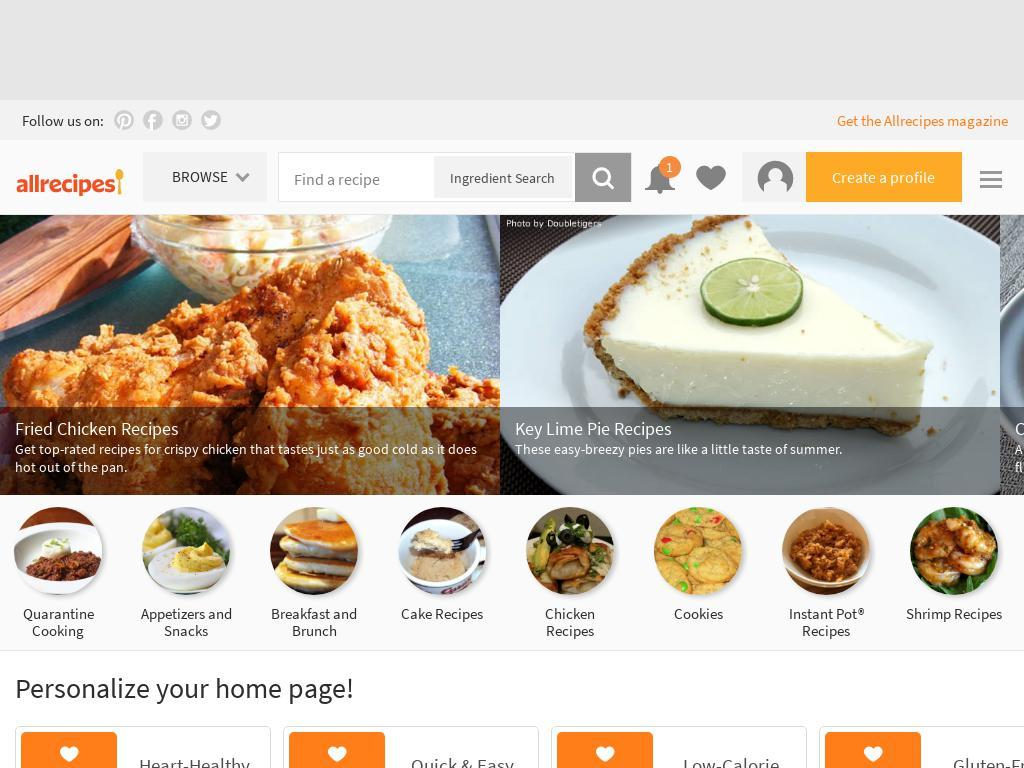button: (8, 507, 108, 643), (136, 507, 236, 643), (264, 507, 364, 643), (520, 507, 620, 643), (776, 507, 876, 643), (392, 507, 492, 626), (648, 507, 748, 626), (904, 507, 1004, 626), (0, 142, 140, 222), (745, 152, 962, 202), (1000, 215, 1024, 495), (143, 152, 267, 202), (837, 110, 1008, 130), (574, 153, 631, 202), (113, 110, 164, 160), (172, 110, 223, 160), (201, 110, 252, 160), (143, 110, 193, 160), (636, 142, 683, 192), (964, 142, 1010, 163), (687, 172, 734, 192)
field: (278, 153, 520, 199)
heading: (15, 670, 354, 706), (15, 417, 485, 440), (515, 417, 985, 440), (139, 754, 250, 768), (411, 754, 514, 768), (682, 754, 779, 768), (952, 754, 1024, 768), (1015, 417, 1024, 440)
image: (0, 215, 500, 495), (500, 215, 1000, 495), (14, 507, 102, 595), (142, 507, 230, 595), (270, 507, 358, 595), (398, 507, 486, 595), (526, 507, 614, 595), (654, 507, 742, 595), (782, 507, 870, 595), (910, 507, 998, 595), (1000, 215, 1024, 495), (25, 732, 112, 768), (293, 732, 380, 768), (561, 732, 648, 768), (829, 732, 916, 768), (15, 168, 125, 196), (175, 112, 222, 159), (585, 160, 632, 207), (640, 159, 687, 206), (689, 156, 736, 203), (751, 154, 796, 200), (115, 111, 145, 146), (202, 112, 232, 138), (146, 112, 166, 147), (979, 171, 1002, 174), (979, 178, 1002, 181), (979, 185, 1002, 188)
link: (15, 440, 485, 476), (515, 440, 842, 458), (1015, 440, 1024, 476)
text: (805, 152, 962, 202), (433, 156, 572, 198), (10, 595, 106, 643), (138, 595, 234, 643), (266, 595, 362, 643), (522, 595, 618, 643), (778, 595, 874, 643), (394, 595, 490, 626), (650, 595, 746, 626), (906, 595, 1002, 626), (21, 110, 104, 130), (172, 167, 228, 186), (658, 156, 681, 178)
